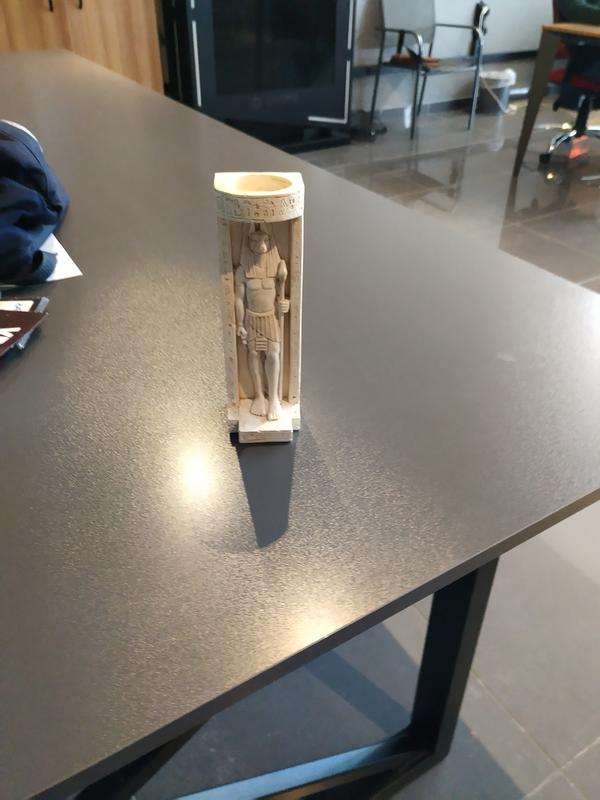heykel: (205, 165, 324, 454)
